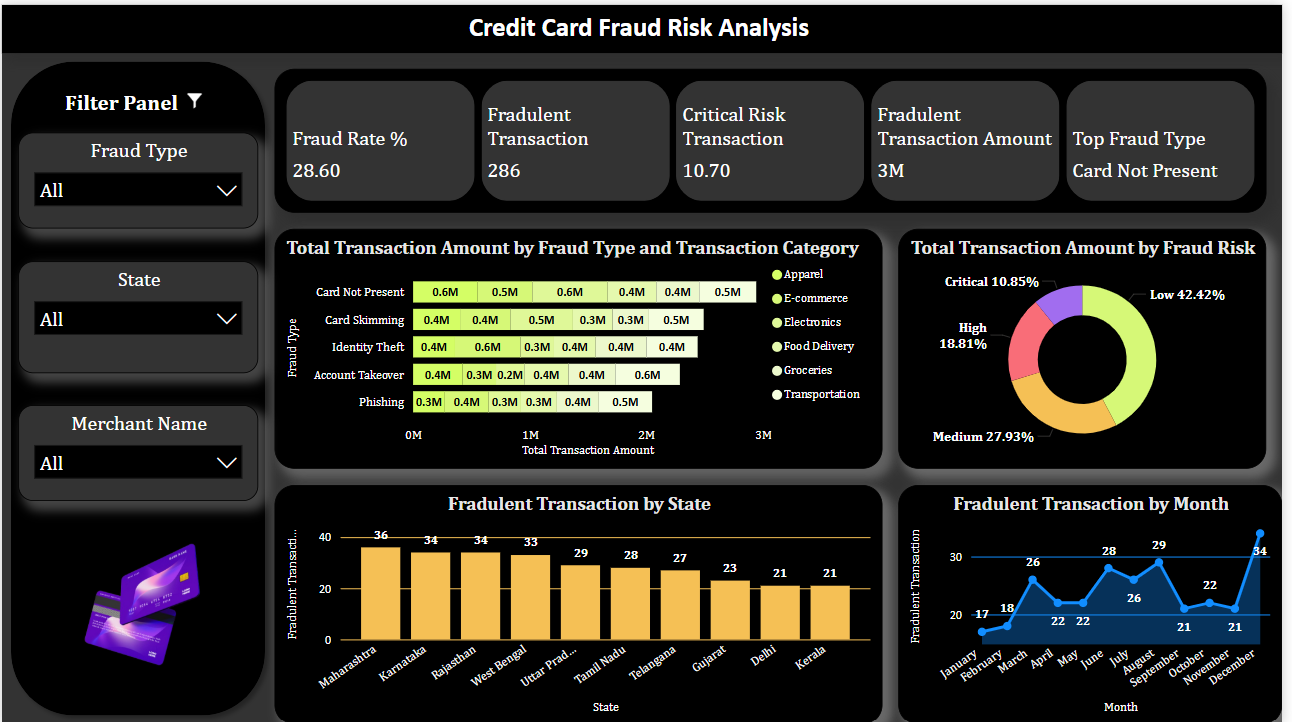

What the dashboard file says about the page in this screenshot:
{"tool":"powerbi","page":{"name":"Page 1","canvas":[1280,720],"ordinal":0},"visuals":[{"type":"textbox","box":[0,0,1280,48],"z":0},{"type":"shape","box":[0,48,272,672],"z":1000},{"type":"textbox","box":[48,80,144,64],"z":2000},{"type":"barChart","fields":{"Y":["Credit Card Fraud Risk Analysis.Total Transaction Amount"],"Category":["Credit Card Fraud Risk Analysis.Fraud Type"],"Series":["Credit Card Fraud Risk Analysis.Transaction Category"]},"box":[272,224,608,240],"z":3000},{"type":"donutChart","fields":{"Y":["Credit Card Fraud Risk Analysis.Total Transaction Amount"],"Category":["Credit Card Fraud Risk Analysis.Fraud Risk"]},"box":[896,224,368,240],"z":4000},{"type":"columnChart","fields":{"Y":["Credit Card Fraud Risk Analysis.Fradulent Transaction"],"Category":["Credit Card Fraud Risk Analysis.State"]},"box":[272,480,608,240],"z":5000},{"type":"lineChart","fields":{"Y":["Credit Card Fraud Risk Analysis.Fradulent Transaction"],"Category":["Credit Card Fraud Risk Analysis.Transaction Date.Variation.Date Hierarchy.Month"]},"box":[896,480,384,240],"z":6000},{"type":"slicer","title":"Fraud Type ","fields":{"Values":["Credit Card Fraud Risk Analysis.Fraud Type"]},"box":[16,128,240,96],"z":7000},{"type":"slicer","title":"State","fields":{"Values":["Credit Card Fraud Risk Analysis.State"]},"box":[16,256,240,112],"z":8000},{"type":"slicer","title":"Merchant Name ","fields":{"Values":["Credit Card Fraud Risk Analysis.Merchant Name"]},"box":[16,400,240,96],"z":9000},{"type":"image","box":[16,512,192,176],"z":10000},{"type":"image","box":[176,80,32,32],"z":11000},{"type":"cardVisual","fields":{"Data":["Credit Card Fraud Risk Analysis.Fraud Rate %","Credit Card Fraud Risk Analysis.Fradulent Transaction","Credit Card Fraud Risk Analysis.Critical Risk Transaction","Credit Card Fraud Risk Analysis.Fradulent Transaction Amount","Credit Card Fraud Risk Analysis.Top Fraud Type"]},"box":[272,64,992,144],"z":12000}]}

Visuals, with their boxes in screenshot pixels (x1, y1, x2, y2), scaled from the page's 1280x720 canvas onto the 1292x722 screenshot:
textbox: box=[0, 0, 1291, 48]
shape: box=[0, 48, 275, 721]
textbox: box=[48, 80, 194, 144]
barChart - Credit Card Fraud Risk Analysis.Total Transaction Amount x Credit Card Fraud Risk Analysis.Fraud Type: box=[275, 225, 888, 465]
donutChart - Credit Card Fraud Risk Analysis.Total Transaction Amount x Credit Card Fraud Risk Analysis.Fraud Risk: box=[904, 225, 1276, 465]
columnChart - Credit Card Fraud Risk Analysis.Fradulent Transaction x Credit Card Fraud Risk Analysis.State: box=[275, 481, 888, 721]
lineChart - Credit Card Fraud Risk Analysis.Fradulent Transaction x Credit Card Fraud Risk Analysis.Transaction Date.Variation.Date Hierarchy.Month: box=[904, 481, 1291, 721]
"Fraud Type " slicer: box=[16, 128, 258, 225]
"State" slicer: box=[16, 257, 258, 369]
"Merchant Name " slicer: box=[16, 401, 258, 497]
image: box=[16, 513, 210, 690]
image: box=[178, 80, 210, 112]
cardVisual - Credit Card Fraud Risk Analysis.Fraud Rate % x Credit Card Fraud Risk Analysis.Fradulent Transaction: box=[275, 64, 1276, 209]
